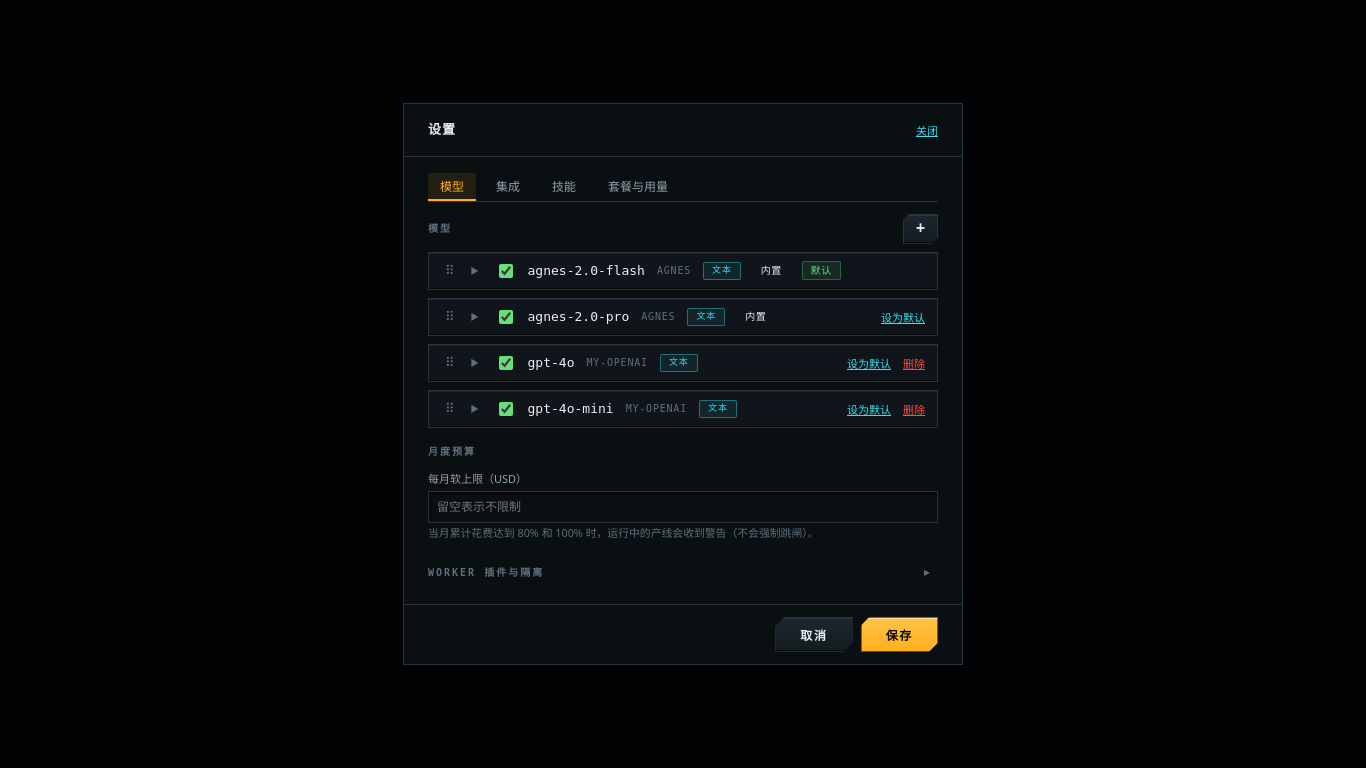
Test: Settings › 渲染 › 切到技能标签页显示技能卡编辑器
This screenshot has width=1366, height=768.
Click the tab "技能": (564, 187) [540,173,588,201]
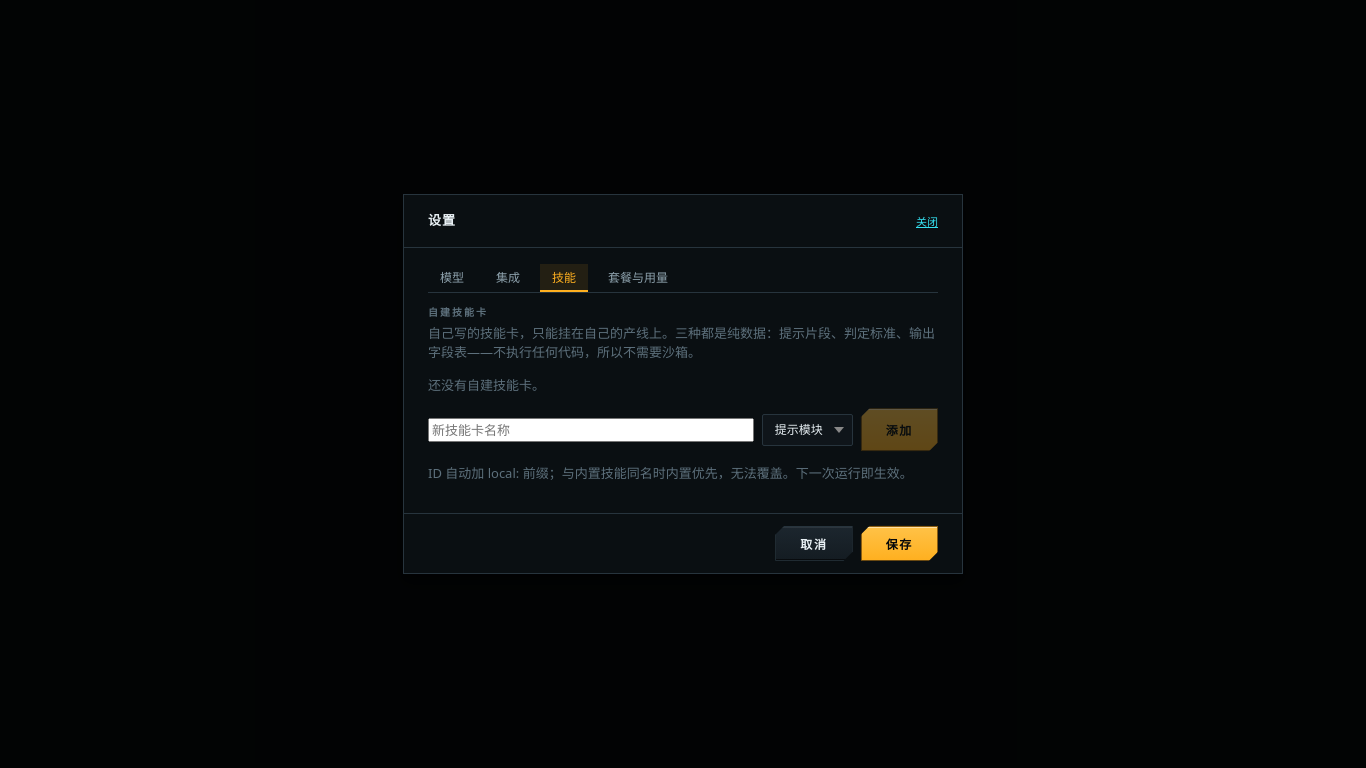
Expected: the heading "自建技能卡" is shown, [428,305,488,320]
